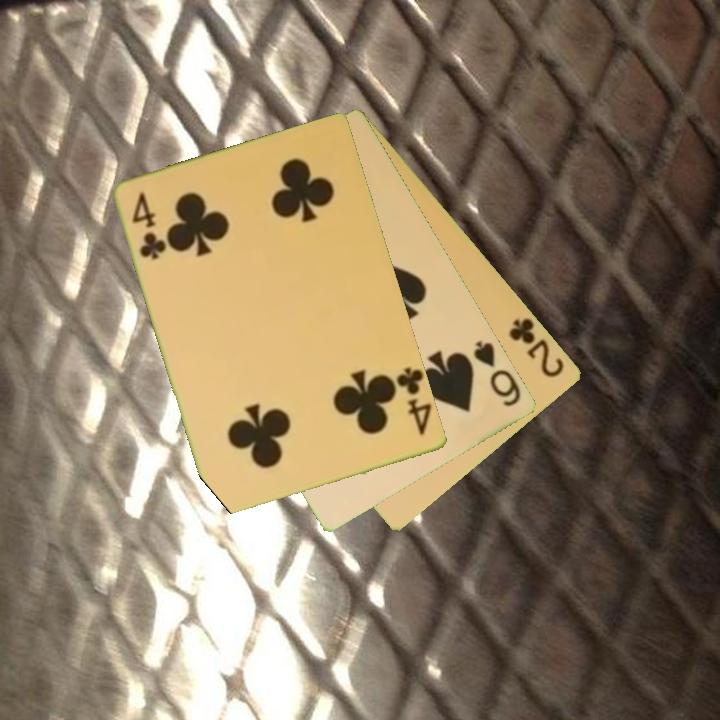2c: (506, 314, 568, 381)
4c: (393, 364, 435, 438), (129, 189, 169, 263)
6s: (470, 337, 525, 410)
